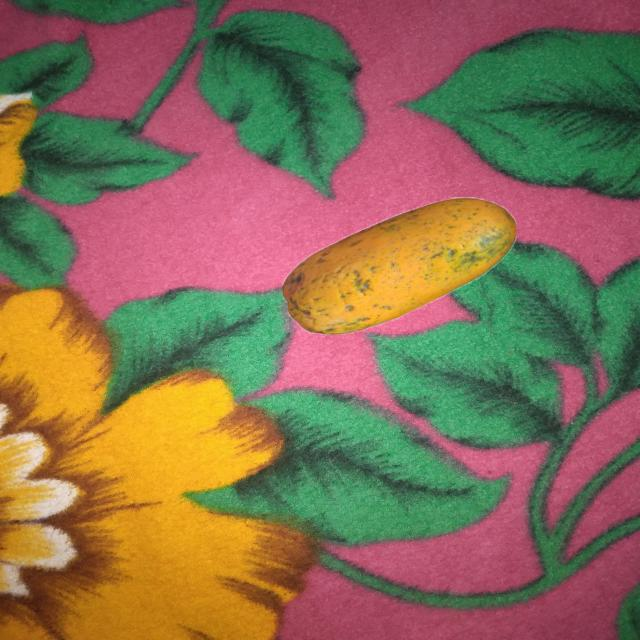Pepaya rippen: (281, 201, 527, 334)
